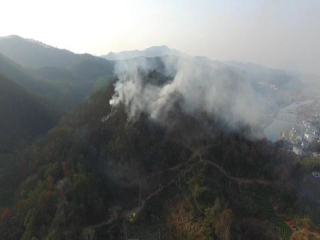smoke: (103, 38, 288, 137)
